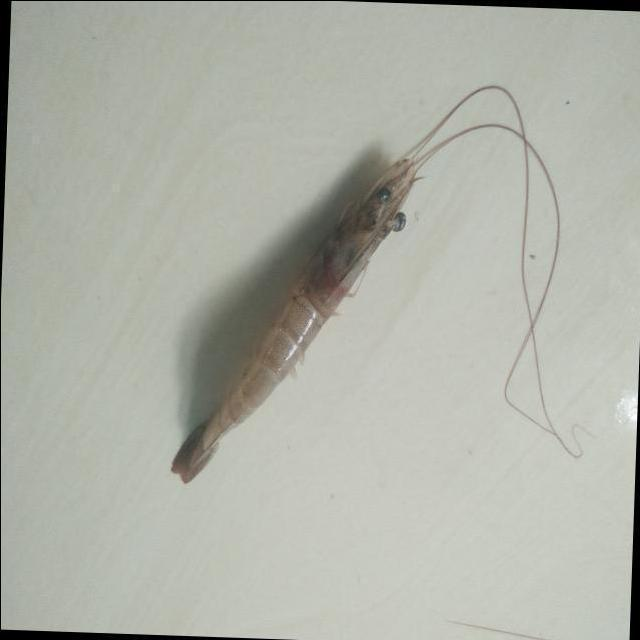shrimp: (171, 158, 416, 484)
